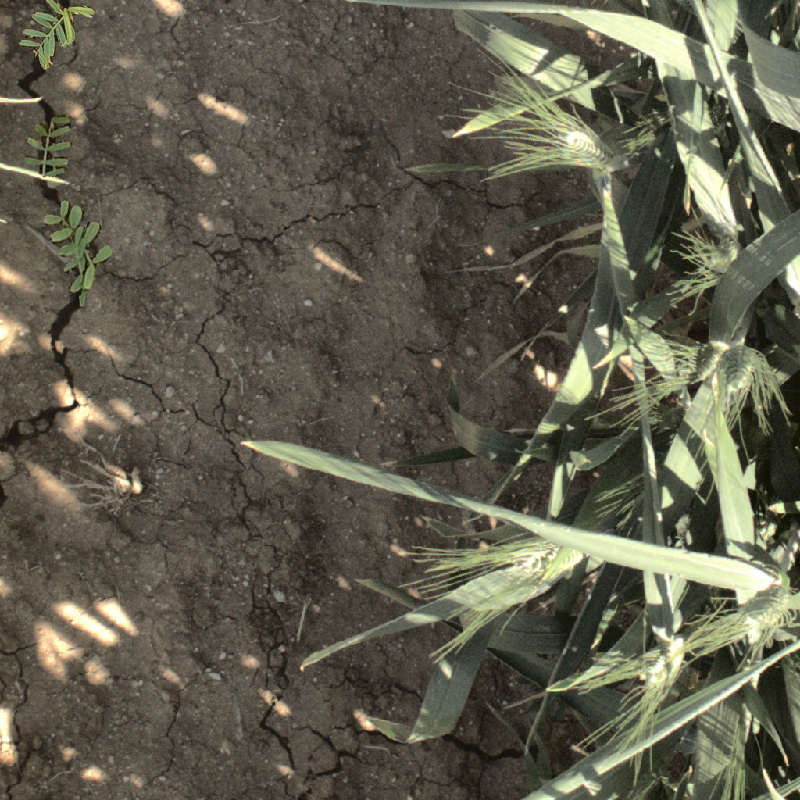spikelet: (487, 545, 613, 597), (638, 633, 688, 695), (559, 125, 622, 173), (735, 587, 792, 640), (676, 338, 728, 383), (720, 344, 756, 393)
weed: (20, 196, 124, 312), (5, 1, 108, 75), (13, 102, 97, 187)
